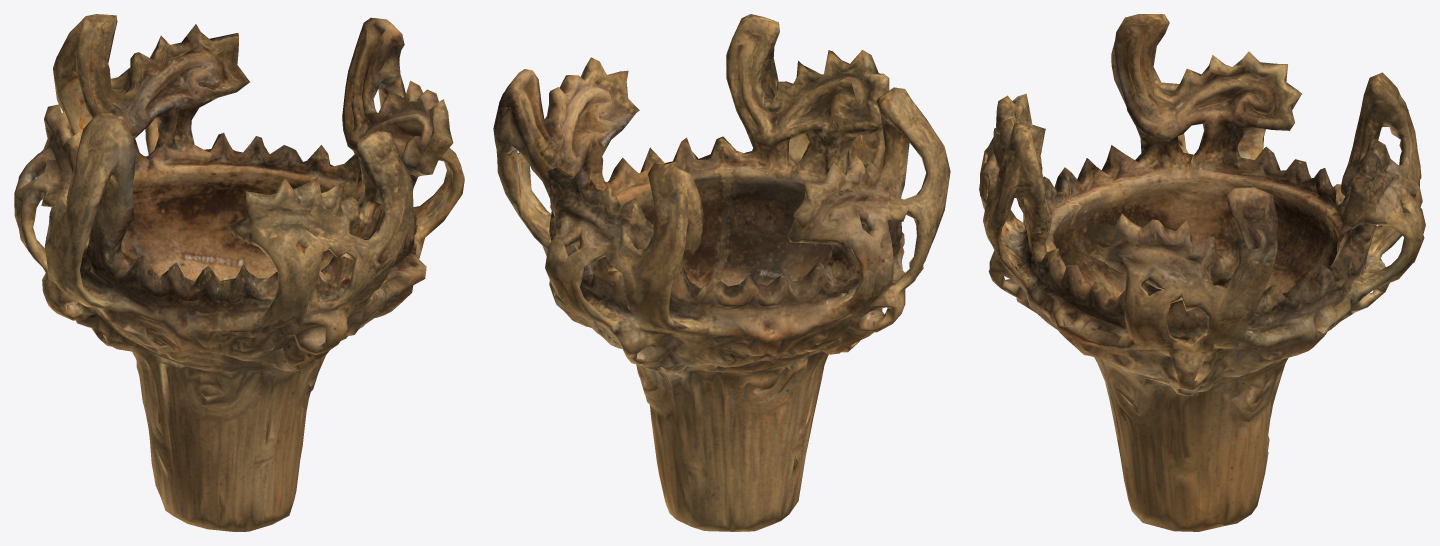
The picture shows the model from 3 angles, left to right: view 1: azimuth 30°, elevation 25°; view 2: azimuth 150°, elevation 25°; view 3: azimuth 270°, elevation 25°; orthographic projection. The views are drawn at different scales.
Parts seen in each view (by area): view 1: IN0009_low; view 2: IN0009_low; view 3: IN0009_low.
Part boxes in pixels (box(x1,y1,x2,y2)): IN0009_low: box(14, 14, 464, 531); IN0009_low: box(493, 14, 950, 531); IN0009_low: box(979, 14, 1425, 531).
Bounding box in the file's own units: 296 × 310 × 294.
1 material, 1 textured.
